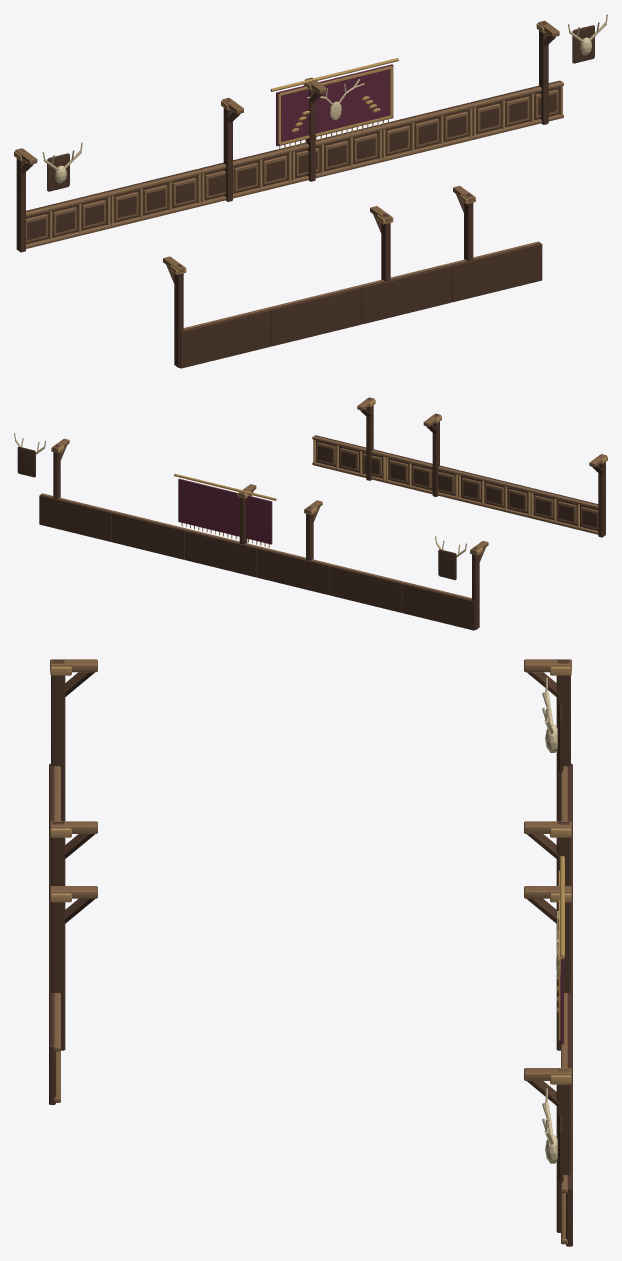
File: feast_banquet_architecture.glb
3 views of the same model, one above another, from view 1: azimuth 30°, elevation 25°; view 2: azimuth 150°, elevation 25°; view 3: azimuth 270°, elevation 25° (orthographic). The views are drawn at different scales.
Visible parts, largest first — view 1: feast_banquet_architecture; view 2: feast_banquet_architecture; view 3: feast_banquet_architecture.
Boxes of the visible parts, bbox=[...] form: feast_banquet_architecture: bbox=[14, 14, 607, 368]; feast_banquet_architecture: bbox=[14, 397, 607, 630]; feast_banquet_architecture: bbox=[49, 659, 572, 1246].
Size of the model in its own units: 22.67 by 3.76 by 10.95.
